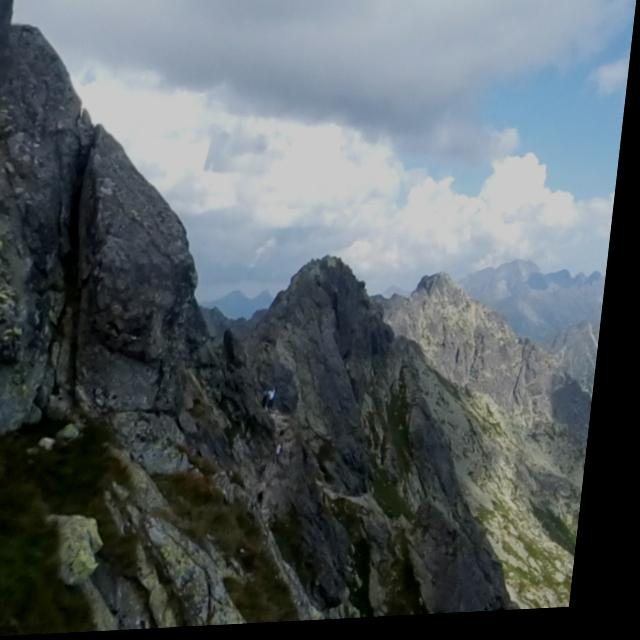Kozi Wierch: (336, 206, 526, 354)
